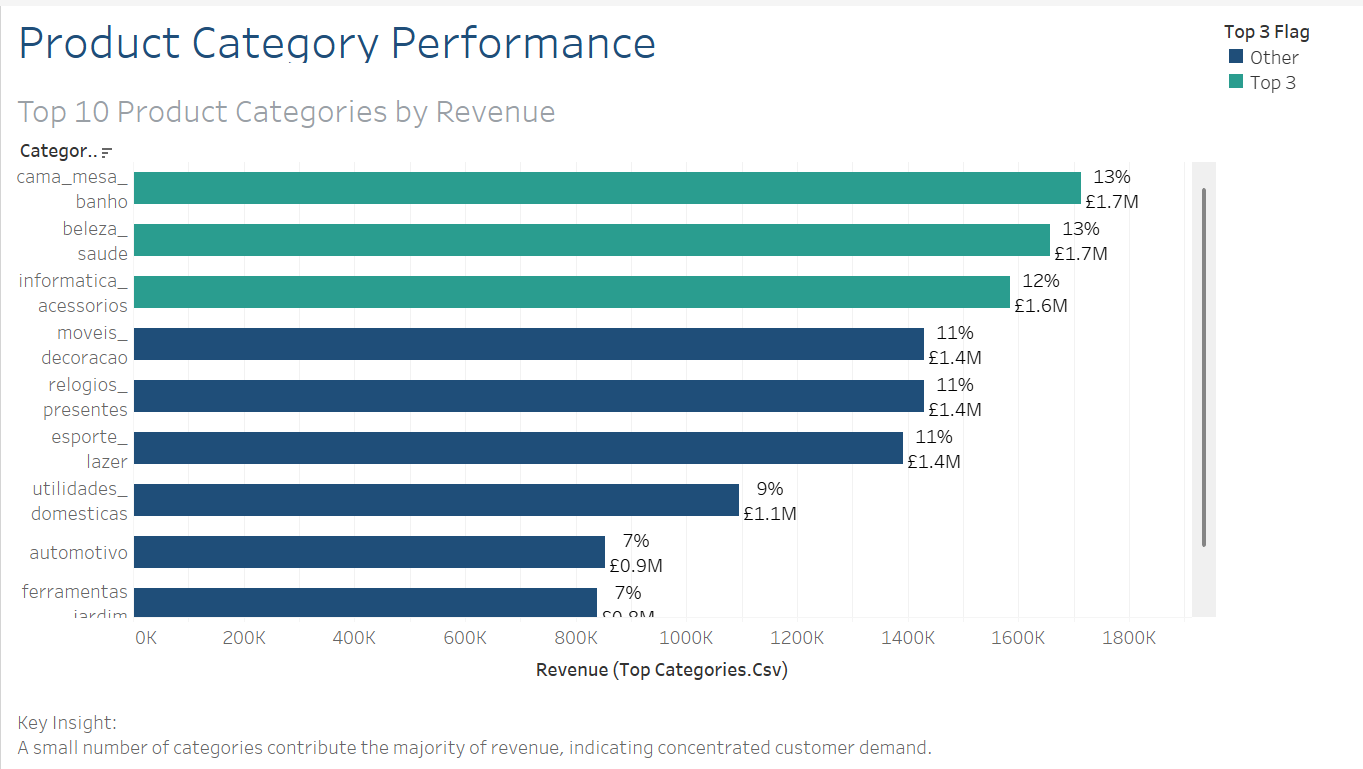

Layout of this report page (visuals, bound fields, positions):
{"tool":"tableau","page":{"name":"Dashboard 3","canvas":[1366,768],"ordinal":2},"visuals":[{"type":"text","box":[8,8,1211,53]},{"type":"legend","title":"Top_Categories","param":"[federated.14y9rmk1ugrze418li1x11x3bndb].[usr:Calculation_417990405363077120:nk]","box":[1219,8,139,84]},{"type":"worksheet","title":"Top_Categories","mark":"Bar","rows":["category_name"],"cols":["revenue (top_categories.csv)"],"box":[8,75,1211,611]},{"type":"text","box":[8,696,1350,64]}]}

Visuals, with their boxes in screenshot pixels (x1, y1, x2, y2), scaled from the page's 1366x768 canvas onto the 1363x769 screenshot:
text: <box>8,8,1216,61</box>
"Top_Categories" legend: <box>1216,8,1355,92</box>
"Top_Categories" worksheet (Bar marks): <box>8,75,1216,687</box>
text: <box>8,697,1355,761</box>
